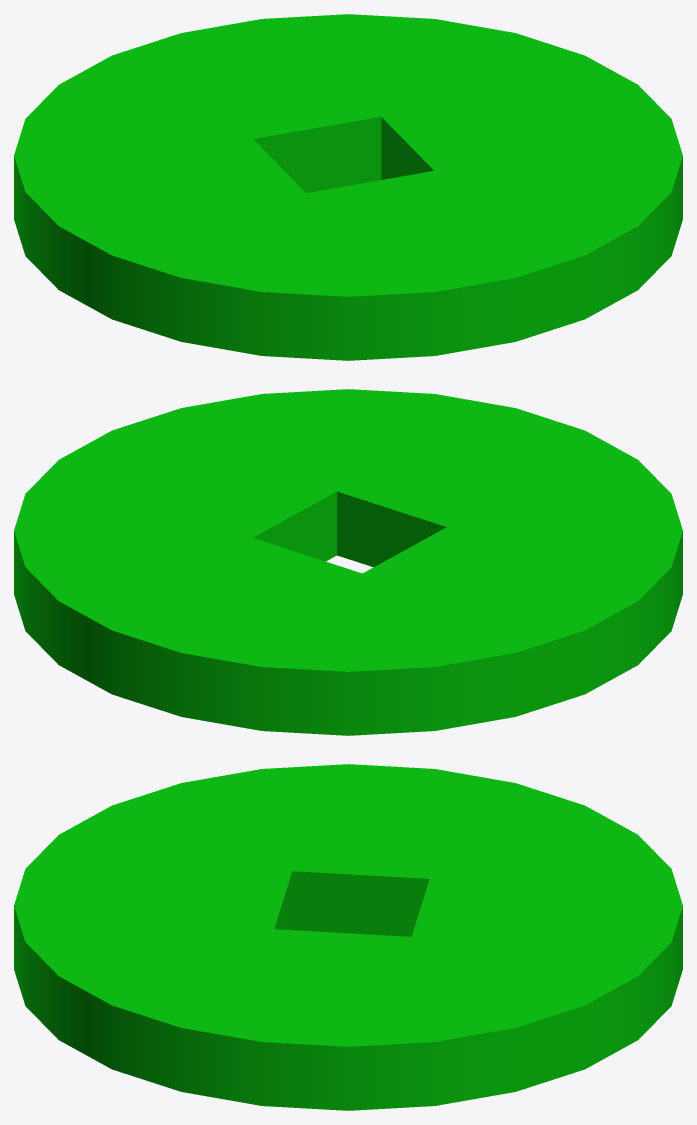
Rendered from coin.obj.
3 views of the same model, one above another, from view 1: azimuth 30°, elevation 25°; view 2: azimuth 150°, elevation 25°; view 3: azimuth 270°, elevation 25° (orthographic).
Parts seen in each view (by area): view 1: coin; view 2: coin; view 3: coin.
Boxes of the visible parts, x1,y1,x2,y2 form: coin: (14, 14, 682, 360); coin: (14, 389, 682, 735); coin: (14, 764, 682, 1110).
Size of the model in its own units: 8.78 by 0.9269 by 8.78.
